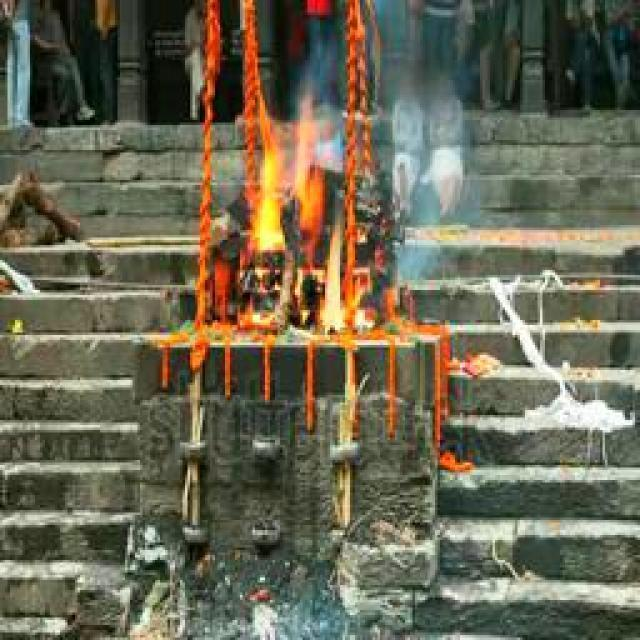Fire: (254, 87, 365, 334)
